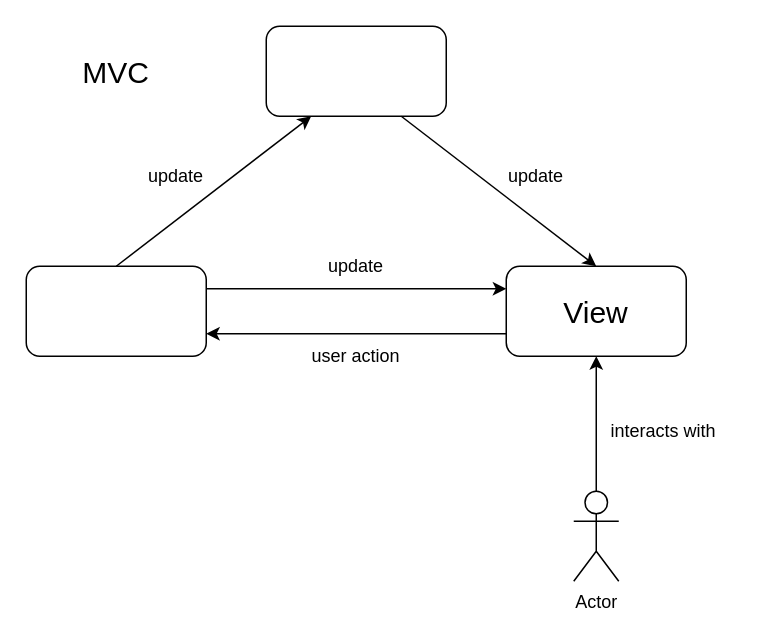
Some shapes in this 780 by 639 pixel diagram are drawn without their labels. The box of each missing label's shape, as (x1, y1, x2, y2) in pixels:
Controller: (25, 265, 206, 356)
Model: (265, 25, 446, 116)
